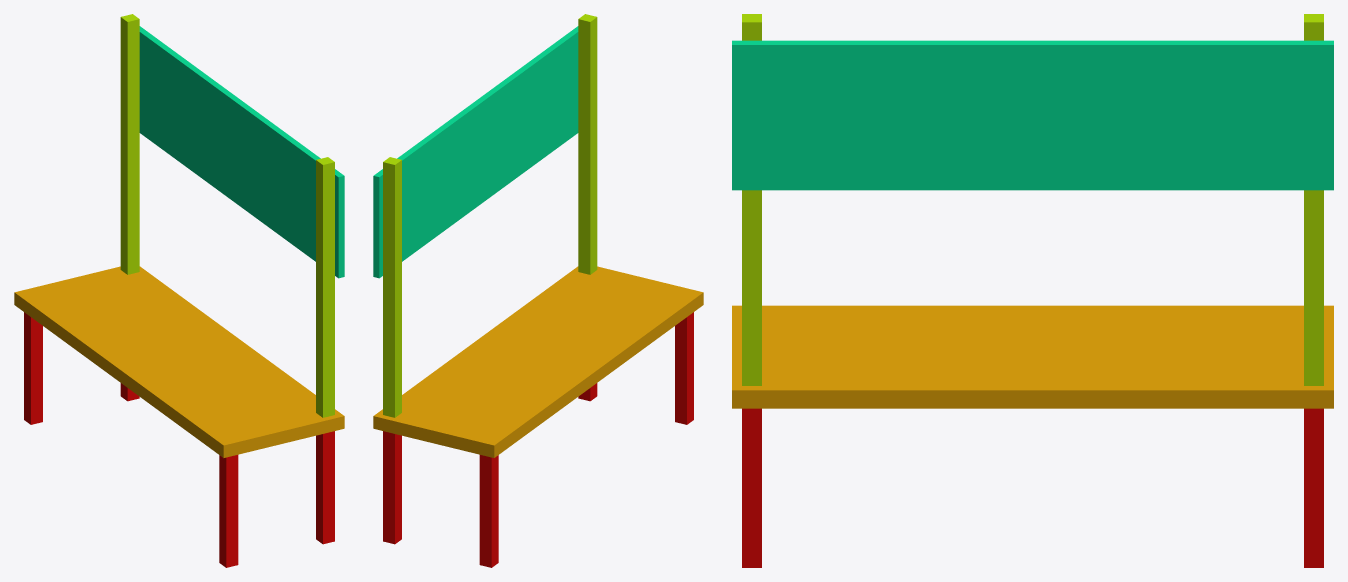
Rendered from Business1.fbx.
3 renders of one model, left to right at view 1: azimuth 30°, elevation 25°; view 2: azimuth 150°, elevation 25°; view 3: azimuth 270°, elevation 25°, orthographic. The views are drawn at different scales.
Parts seen in each view (by area): view 1: Business1; view 2: Business1; view 3: Business1.
Boxes of the visible parts, x1,y1,x2,y2 form: Business1: (14,14,344,567); Business1: (373,14,703,567); Business1: (732,14,1333,567).
Bounding box in the file's own units: 480 × 160 × 480.
